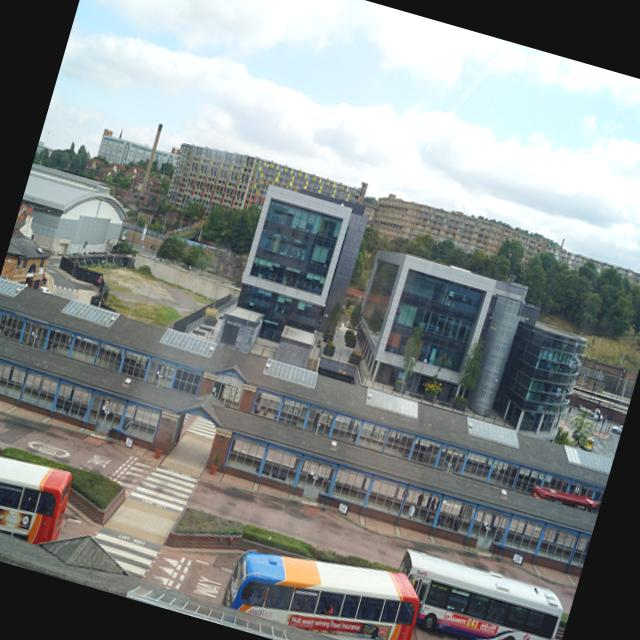Vehicle: (216, 528, 427, 640), (388, 549, 568, 640), (0, 434, 81, 546), (582, 437, 594, 452), (610, 421, 623, 434)
